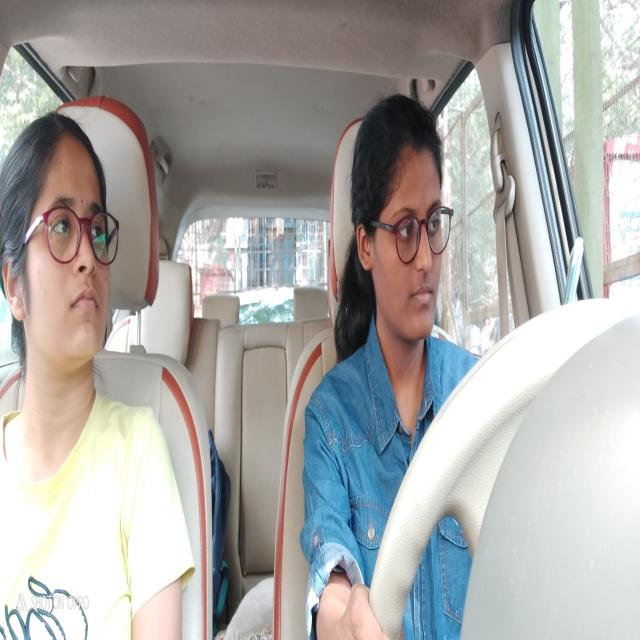mobile: (559, 232, 590, 310)
person: (3, 103, 118, 413), (351, 91, 455, 366)
